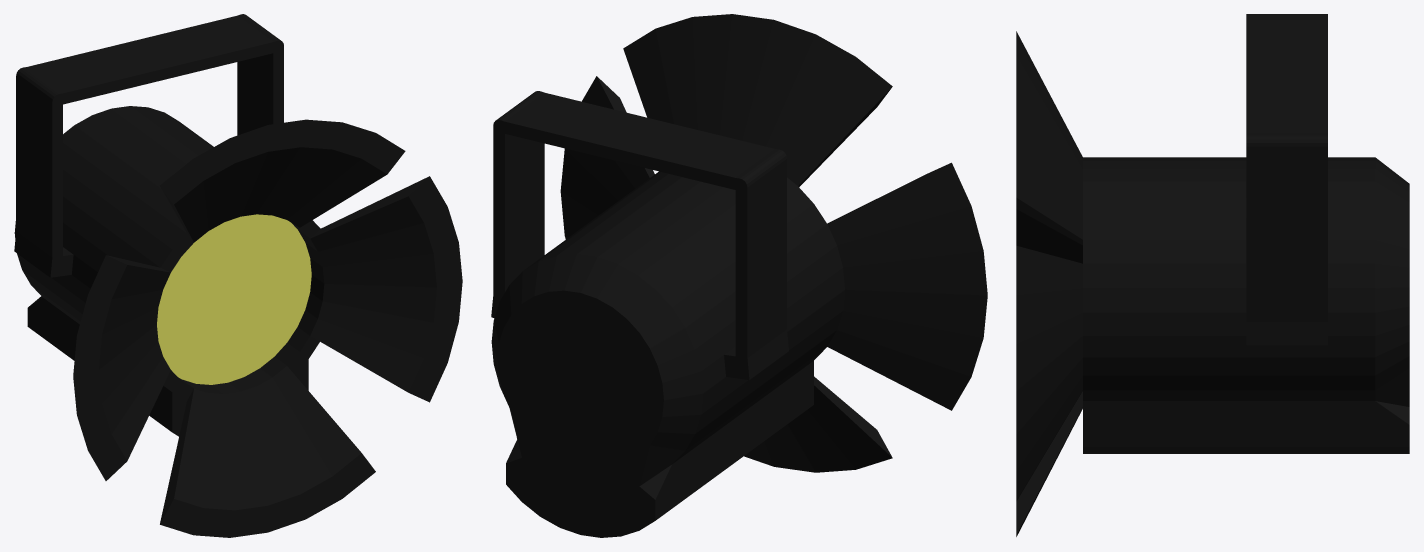
Rendered from Spotlight.fbx.
The picture shows the model from 3 angles, left to right: view 1: azimuth 30°, elevation 25°; view 2: azimuth 150°, elevation 25°; view 3: azimuth 270°, elevation 25°; orthographic projection. The views are drawn at different scales.
Parts seen in each view (by area): view 1: Cylinder; view 2: Cylinder; view 3: Cylinder.
Boxes of the visible parts, x1,y1,x2,y2 form: Cylinder: [14, 14, 462, 537]; Cylinder: [491, 14, 987, 537]; Cylinder: [1016, 14, 1409, 536].
Size of the model in its own units: 404 by 404 by 313.
